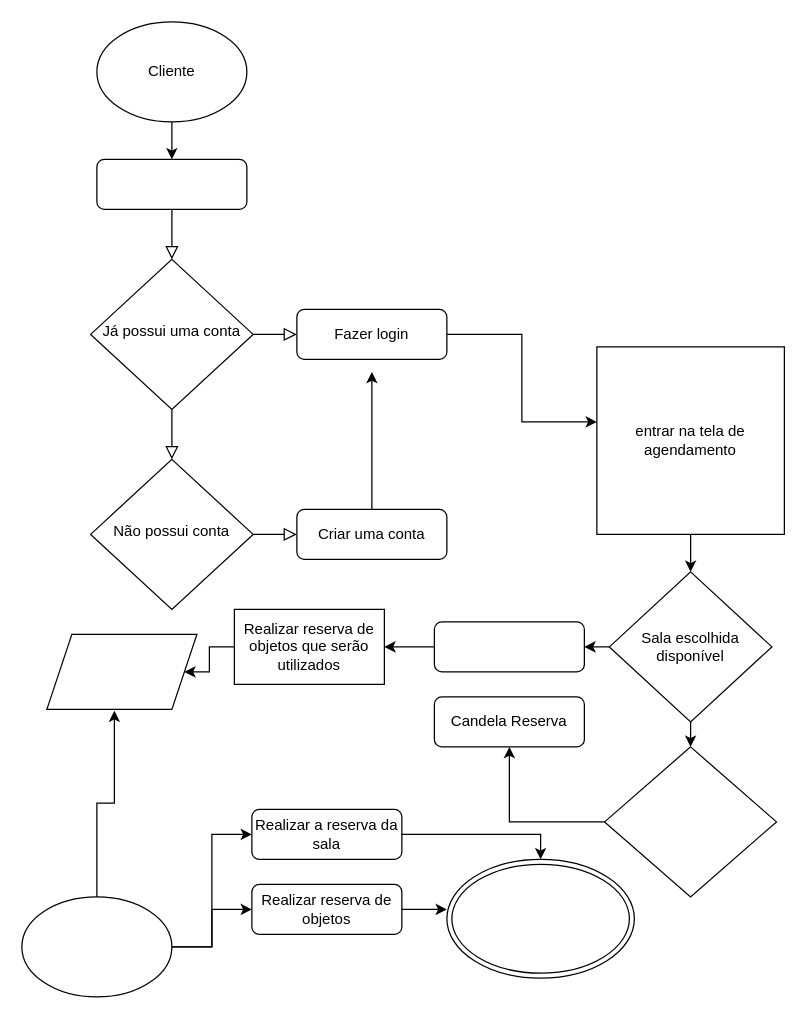
Image size: 806x1029. Some labels were removed from this diagram. The centre of each missing label's shape, as x and y in pixels:
"AddRoom" belongs at [96,946].
"Agendamento completo" belongs at [540,918].
"confirmação de reserva" belongs at [121,671].
"Entrar no AddRoom" belongs at [171,183].
"Realizar reserva de sala" belongs at [508,646].
"Sala escolhida já reservada" belongs at [689,821].
